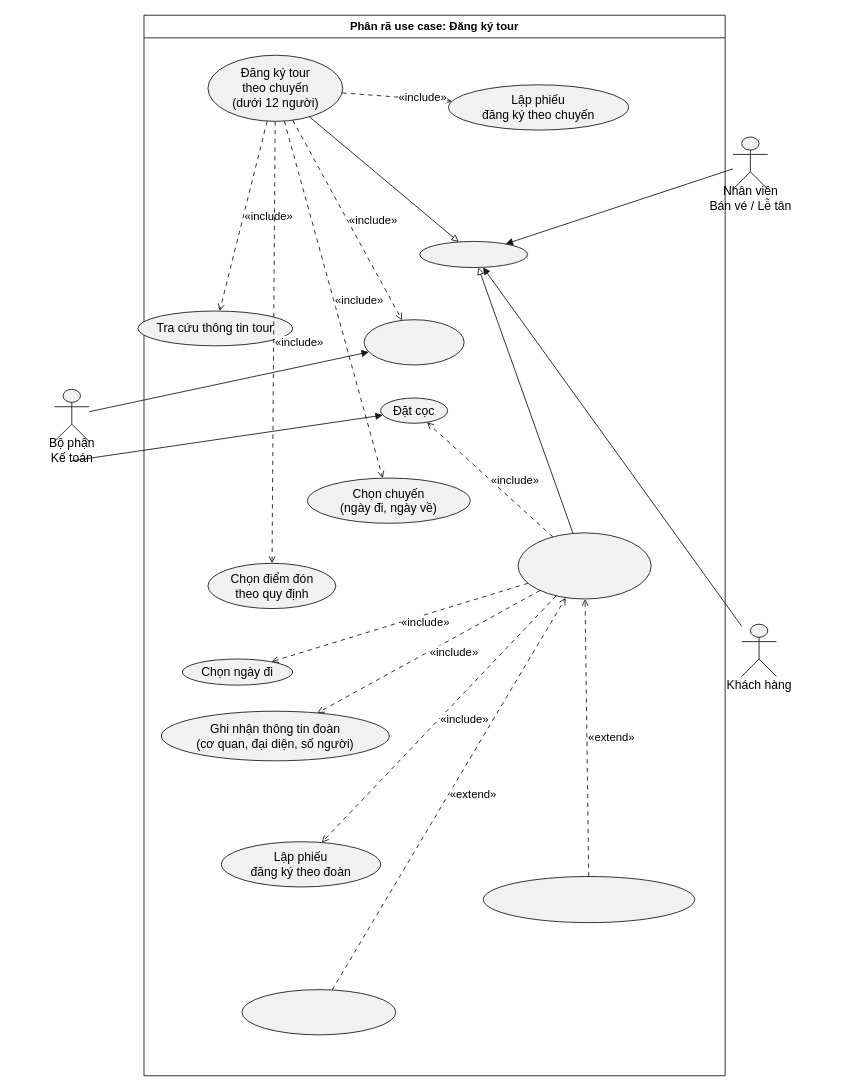
Some shapes in this 852 by 1091 pixel diagram are drawn without their labels. The shapes that lost their labels are listed below. From the top down, each one's centre as x and y in pixels, then its label:
[473,254]: Đăng ký tour
[413,342]: Thanh toán tiền vé
[584,565]: Đăng ký tour theo đoàn (trên 12 người)
[588,899]: Lập danh sách người đi (mua bảo hiểm)
[318,1012]: Yêu cầu địa điểm đón của đoàn
